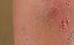plaque psoriasis: (45, 0, 74, 20), (63, 28, 74, 45), (45, 7, 59, 19), (57, 19, 69, 33), (25, 44, 37, 45)
